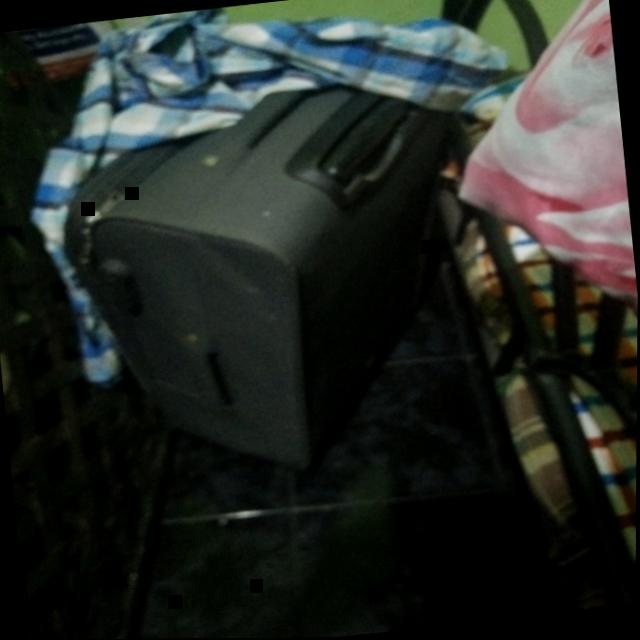luggage: (41, 72, 489, 500)
